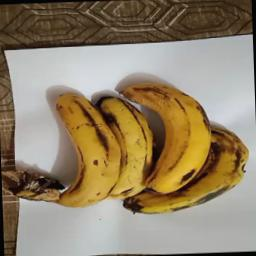Banana Unripe: (38, 78, 250, 221), (121, 74, 220, 198), (38, 86, 122, 220), (92, 84, 158, 204)
